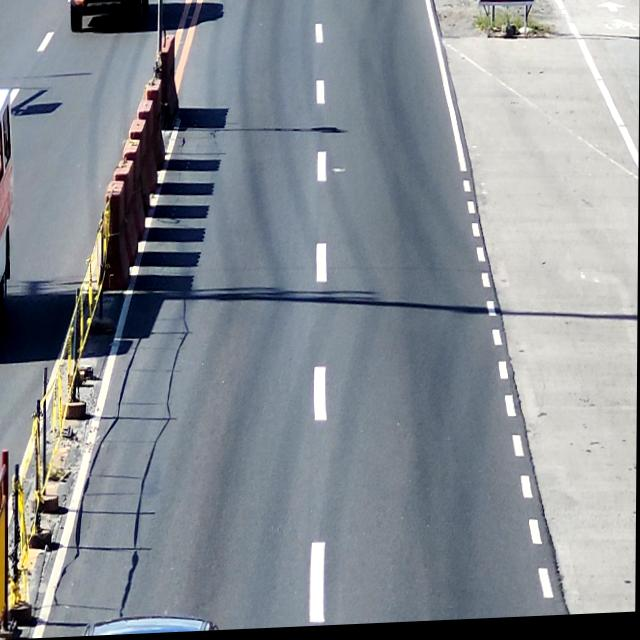Car: (70, 0, 150, 34)
